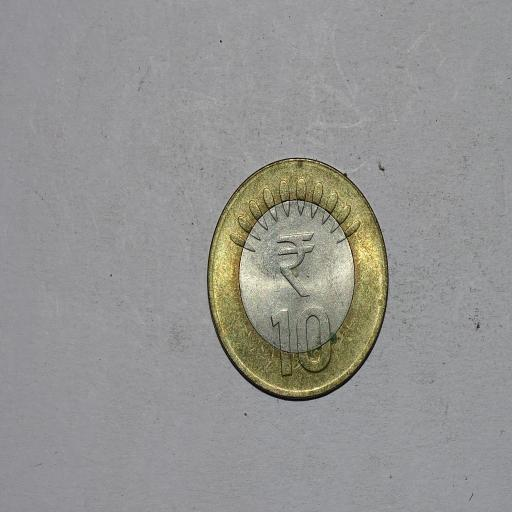rupee10: (204, 156, 390, 401)
